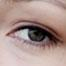eye: (29, 28, 45, 41)
